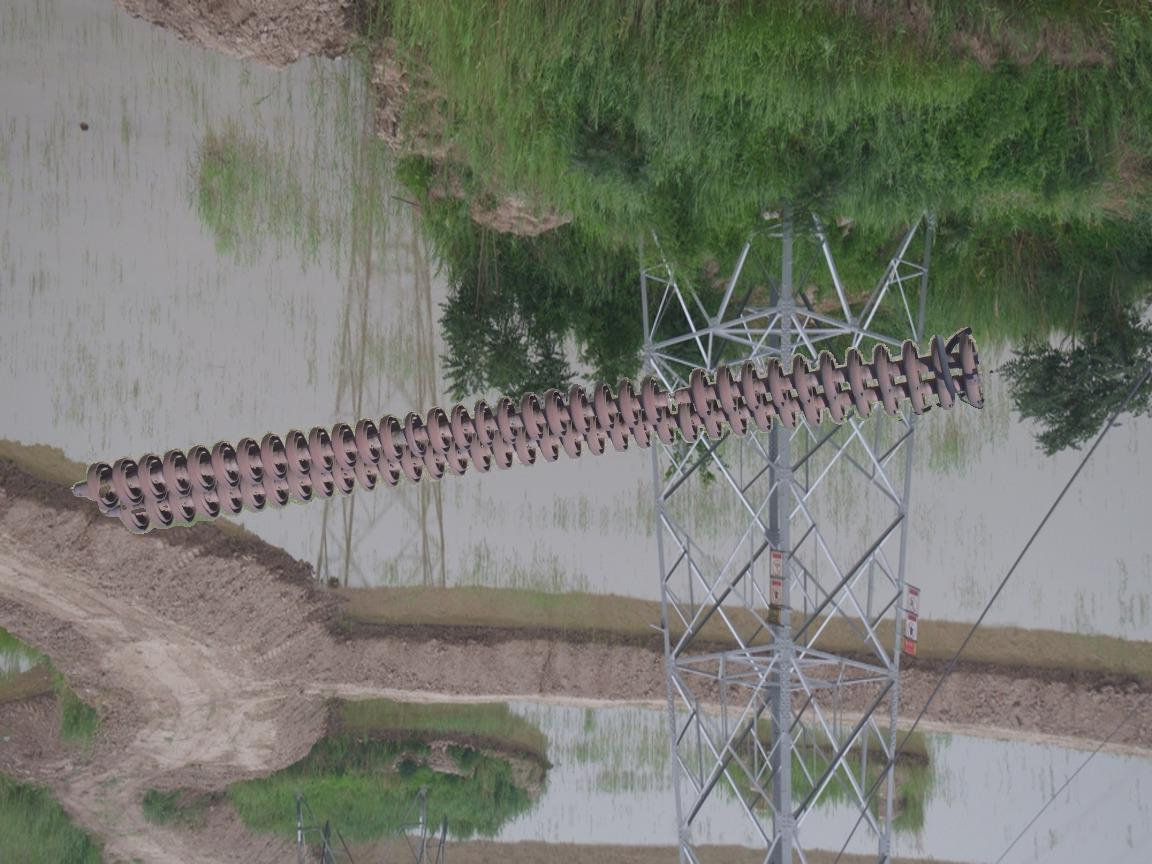insulator: (81, 327, 988, 535)
insulator_stringdrop: (637, 366, 714, 429)
